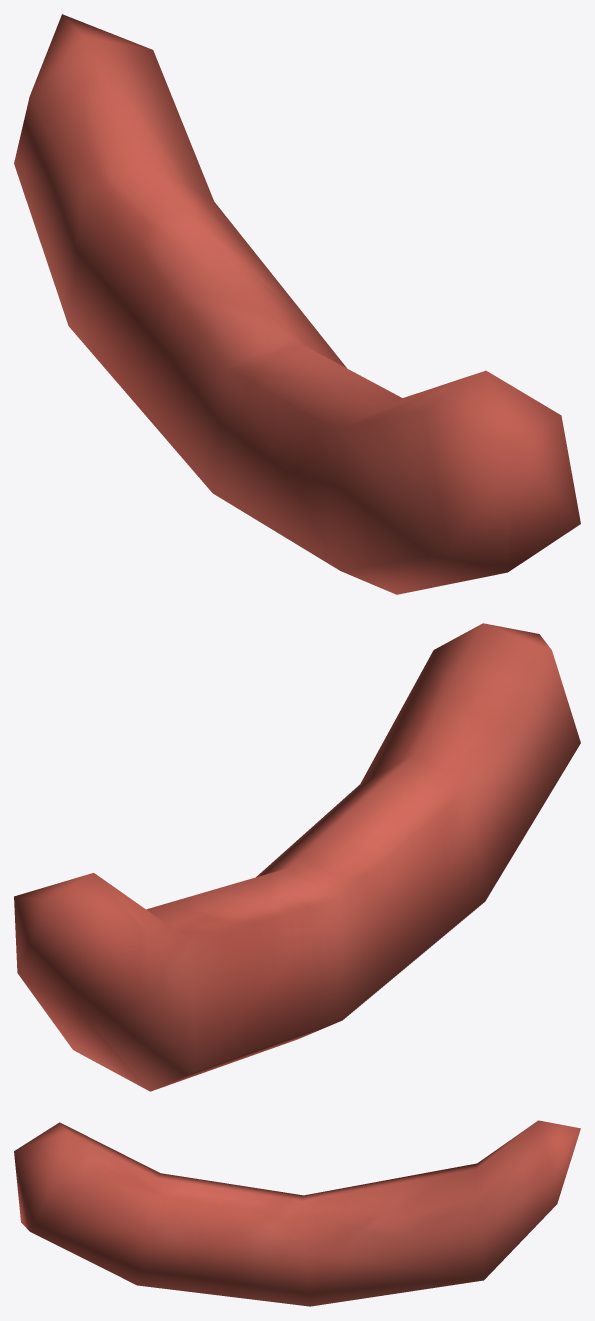
The model's file is SM_PROP_food_sausage_06.FBX.
3 views of the same model, one above another, from view 1: azimuth 30°, elevation 25°; view 2: azimuth 150°, elevation 25°; view 3: azimuth 270°, elevation 25° (orthographic). The views are drawn at different scales.
Parts seen in each view (by area): view 1: SM_PROP_food_sausage_06; view 2: SM_PROP_food_sausage_06; view 3: SM_PROP_food_sausage_06.
Boxes of the visible parts, x1,y1,x2,y2 form: SM_PROP_food_sausage_06: [14, 14, 580, 594]; SM_PROP_food_sausage_06: [14, 623, 580, 1091]; SM_PROP_food_sausage_06: [14, 1120, 580, 1306].
Bounding box in the file's own units: 6.95 × 36.32 × 12.98.
